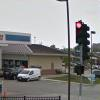Traffic light: (70, 15, 100, 68)
